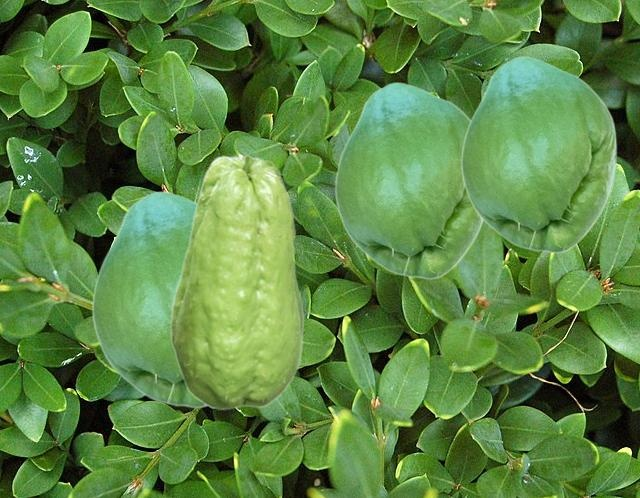sayote: (169, 154, 304, 410), (460, 56, 616, 253), (334, 82, 483, 279), (91, 191, 206, 408)
